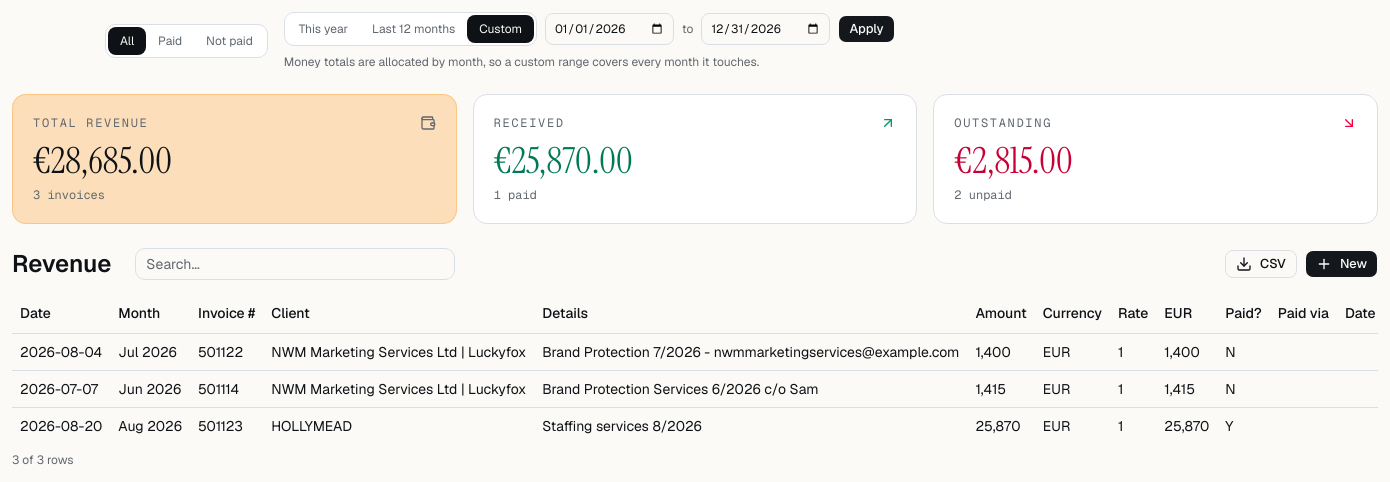
Test case: Revenue search over the Client column › does not match rows by the client id behind the name
Type "holly" into the field with placeholder "Search..." at (295, 264), box top-left (135, 248), bottom-right (455, 280)
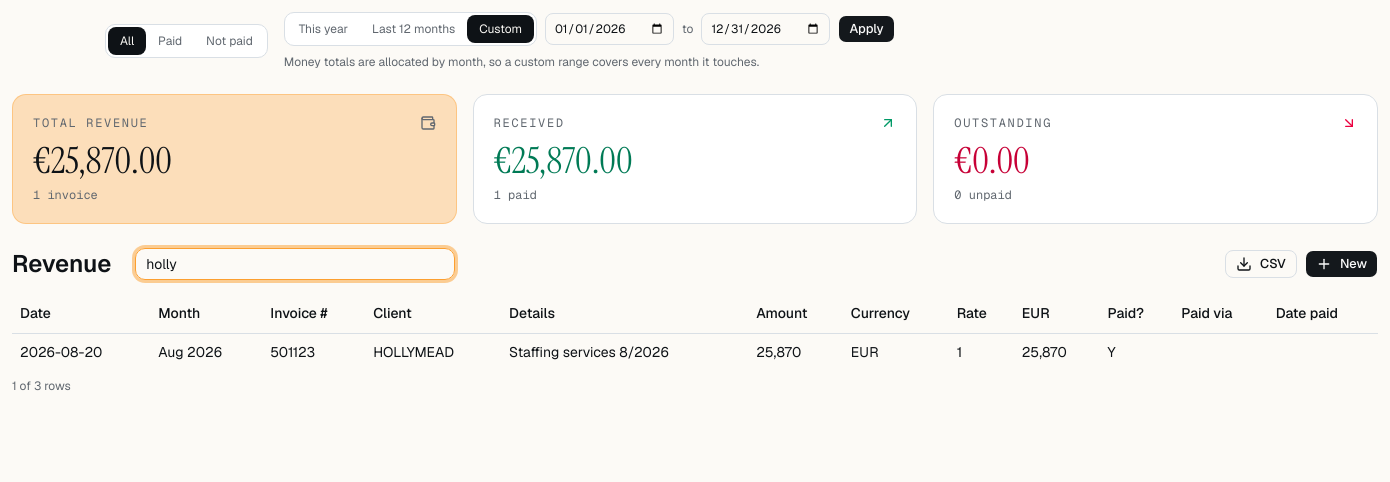
Check: the text "501123" is shown, box top-left (262, 333), bottom-right (365, 370)
Check: the text "1 invoice" is shown, box top-left (33, 187), bottom-right (98, 203)
